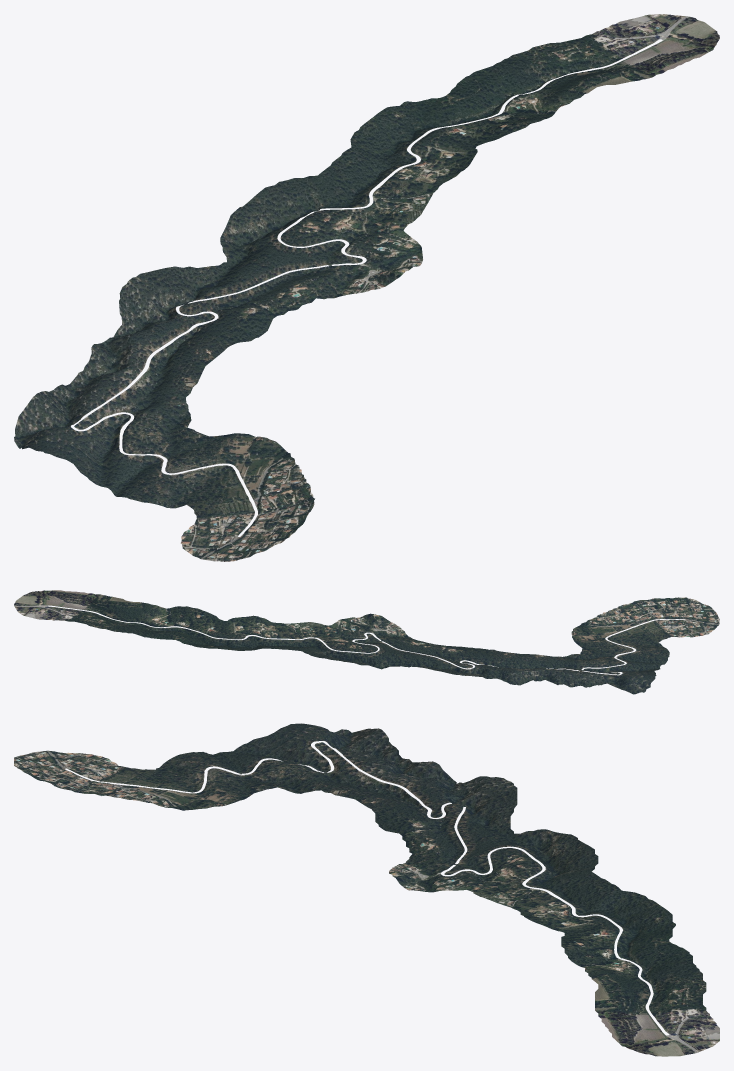
The model's file is terrain.glb.
The picture shows the model from 3 angles, top to bottom: view 1: azimuth 30°, elevation 25°; view 2: azimuth 150°, elevation 25°; view 3: azimuth 270°, elevation 25°; orthographic projection. The views are drawn at different scales.
Parts seen in each view (by area): view 1: terrain_915000_6239500, terrain_916000_6240500, terrain_915000_6240000, terrain_915500_6240000, terrain_916500_6240500, terrain_915500_6240500, terrain_916000_6240000, terrain_917000_6240500, terrain_915000_6239000; view 2: terrain_915000_6239500, terrain_916500_6240500, terrain_916000_6240500, terrain_915000_6240000, terrain_915500_6240000, terrain_917000_6240500, terrain_916000_6240000, terrain_915000_6239000, terrain_915500_6240500, terrain_917000_6241000; view 3: terrain_916000_6240500, terrain_915000_6239500, terrain_915000_6240000, terrain_916500_6240500, terrain_915500_6240000, terrain_915500_6240500, terrain_917000_6240500, terrain_916000_6240000, terrain_915000_6239000, terrain_917000_6241000.
Boxes of the visible parts, box(x1,y1,x2,y2) form: terrain_915000_6239500: box(62, 427, 314, 553); terrain_916000_6240500: box(261, 101, 477, 244); terrain_915000_6240000: box(14, 300, 199, 458); terrain_915500_6240000: box(119, 245, 367, 377); terrain_916500_6240500: box(414, 37, 651, 150); terrain_915500_6240500: box(119, 191, 314, 299); terrain_916000_6240000: box(316, 209, 423, 291); terrain_917000_6240500: box(596, 16, 719, 77); terrain_915000_6239000: box(190, 503, 314, 561); terrain_915000_6239500: box(571, 600, 712, 672); terrain_916500_6240500: box(67, 594, 229, 645); terrain_916000_6240500: box(193, 615, 366, 661); terrain_915000_6240000: box(488, 654, 656, 694); terrain_915500_6240000: box(369, 627, 531, 678); terrain_917000_6240500: box(14, 590, 100, 618); terrain_916000_6240000: box(306, 613, 398, 644); terrain_915000_6239000: box(640, 597, 719, 630); terrain_915500_6240500: box(336, 644, 483, 676); terrain_917000_6241000: box(15, 607, 66, 620); terrain_916000_6240500: box(487, 847, 675, 937); terrain_915000_6239500: box(65, 731, 277, 809); terrain_915000_6240000: box(277, 723, 486, 798); terrain_916500_6240500: box(558, 928, 699, 1014); terrain_915500_6240000: box(342, 776, 489, 870); terrain_915500_6240500: box(487, 777, 591, 864); terrain_917000_6240500: box(595, 1010, 699, 1056); terrain_916000_6240000: box(389, 860, 489, 898); terrain_915000_6239000: box(14, 750, 67, 789); terrain_917000_6241000: box(699, 1011, 719, 1051).
Bounding box in the file's own units: 2224 × 218 × 1672.
Materials: 12 (12 with a texture image).
